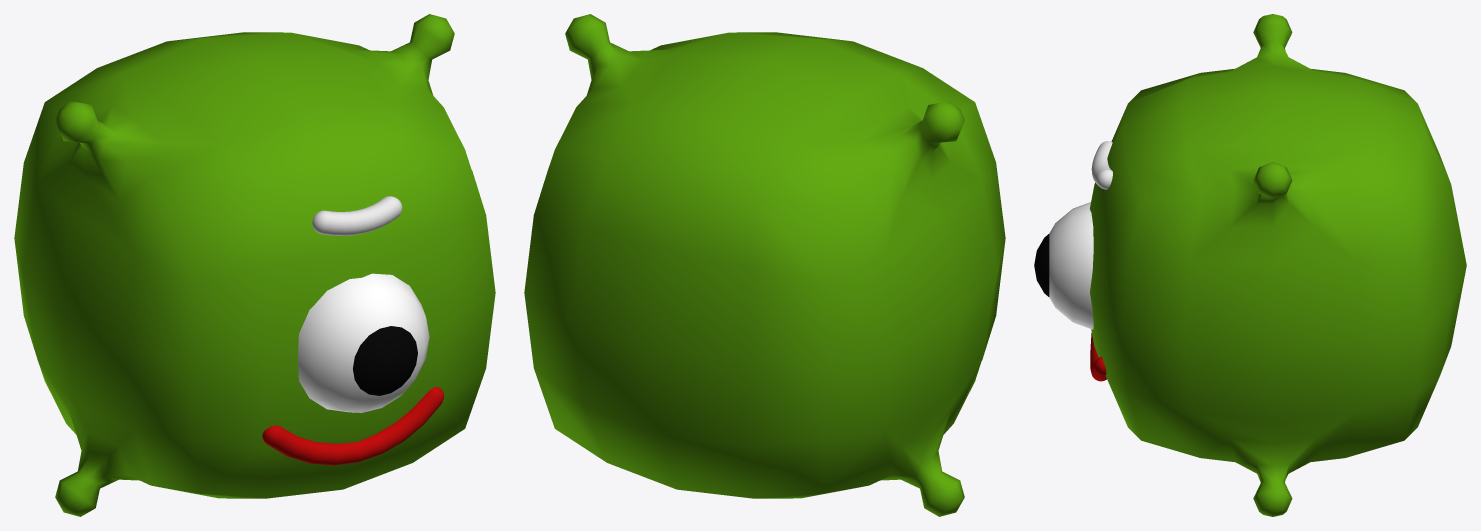
Rendered from allien 1 01.fbx.
3 renders of one model, left to right at view 1: azimuth 30°, elevation 25°; view 2: azimuth 150°, elevation 25°; view 3: azimuth 270°, elevation 25°, orthographic. The views are drawn at different scales.
Parts seen in each view (by area): view 1: Alien_Box, Sphere, Capsule, Sphere_2, Capsule_1; view 2: Alien_Box; view 3: Alien_Box, Sphere, Capsule_1, Sphere_2.
Boxes of the visible parts, x1=… form: Alien_Box: x1=14, y1=14, x2=495, y2=516; Sphere: x1=297, y1=273, x2=429, y2=412; Capsule: x1=262, y1=387, x2=443, y2=465; Sphere_2: x1=353, y1=326, x2=417, y2=395; Capsule_1: x1=312, y1=196, x2=402, y2=235; Alien_Box: x1=524, y1=14, x2=1005, y2=516; Alien_Box: x1=1090, y1=14, x2=1466, y2=516; Sphere: x1=1049, y1=202, x2=1093, y2=329; Capsule_1: x1=1091, y1=141, x2=1112, y2=189; Sphere_2: x1=1034, y1=234, x2=1049, y2=296.
Bounding box in the file's own units: 200 × 200 × 222.
